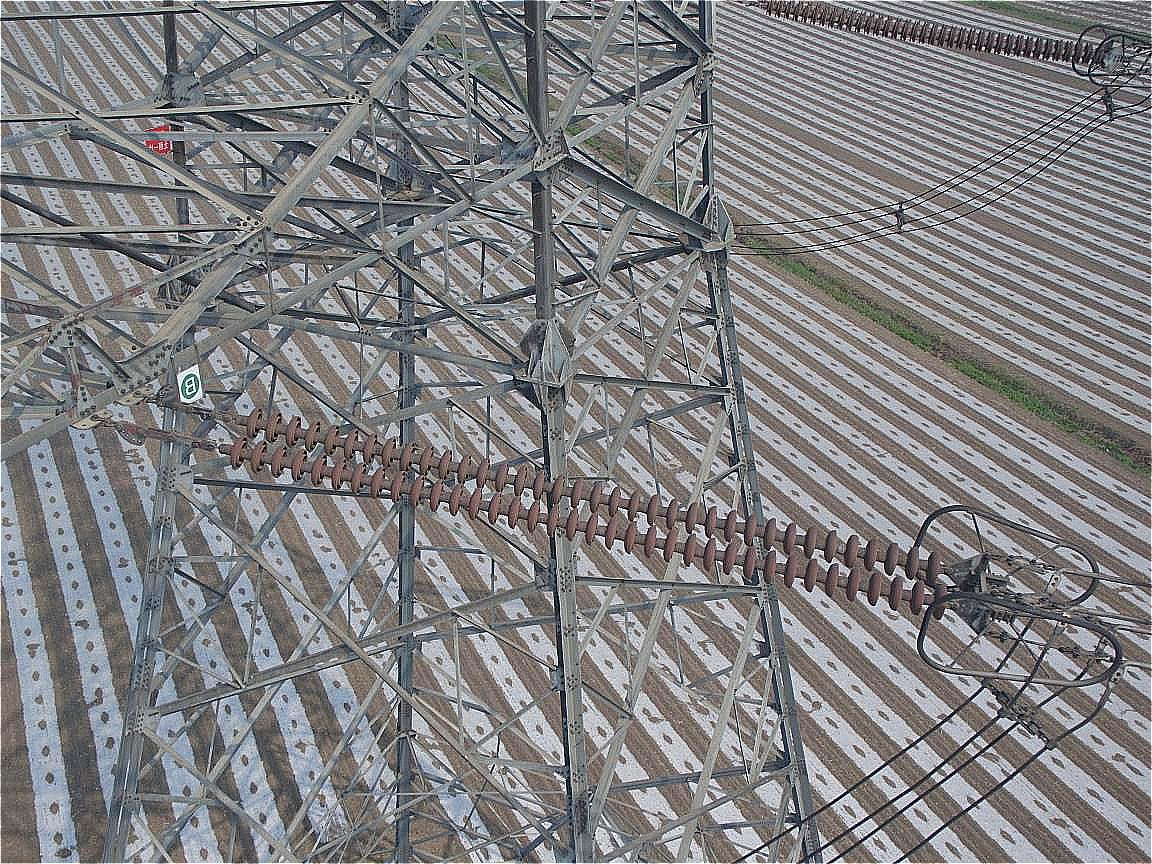insultor1: (204, 401, 975, 628)
